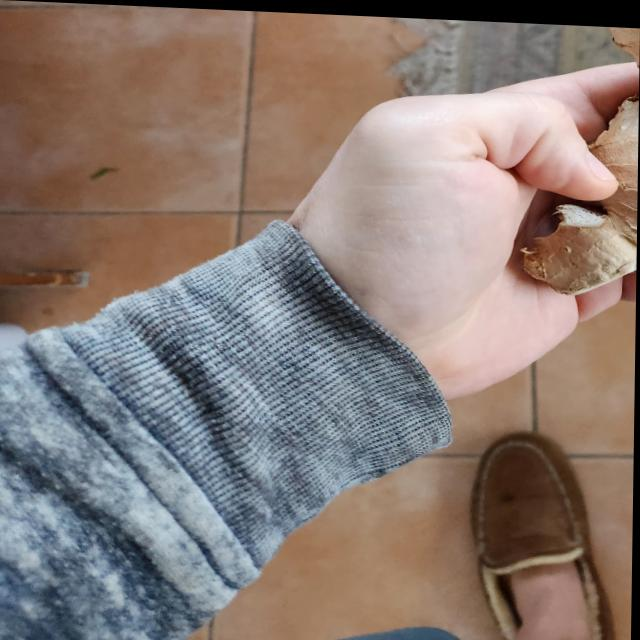ginger: (513, 19, 640, 287)
